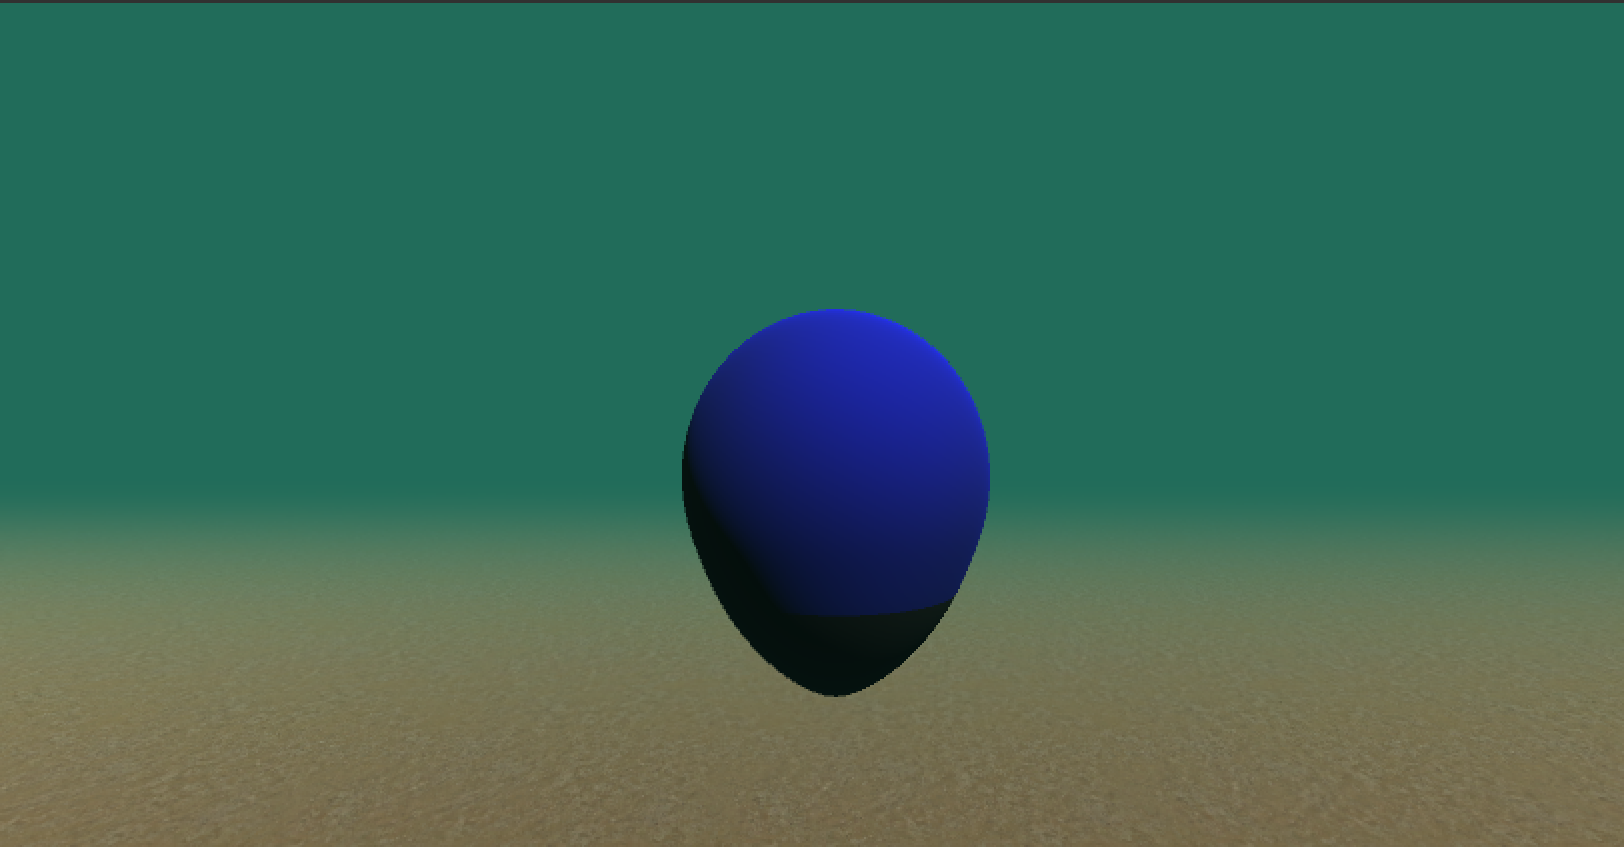blue buoy: (678, 306, 996, 701)
